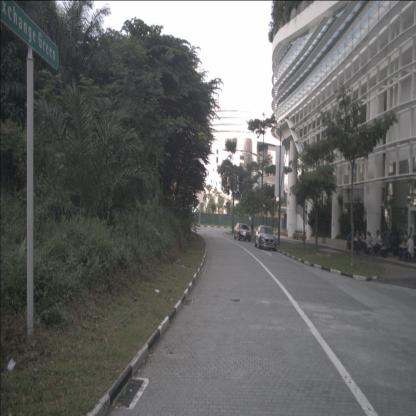human-pedestrian-adult: (404, 235, 414, 262), (379, 230, 388, 258), (373, 231, 382, 258), (392, 232, 401, 256), (398, 232, 405, 261), (402, 231, 410, 256), (366, 232, 374, 257), (375, 230, 383, 255), (364, 231, 372, 255), (357, 230, 365, 252), (387, 232, 394, 255), (357, 232, 364, 255), (347, 231, 354, 251), (355, 230, 360, 250), (251, 221, 254, 242)
vehicle-car: (255, 226, 277, 251), (234, 222, 251, 242)
